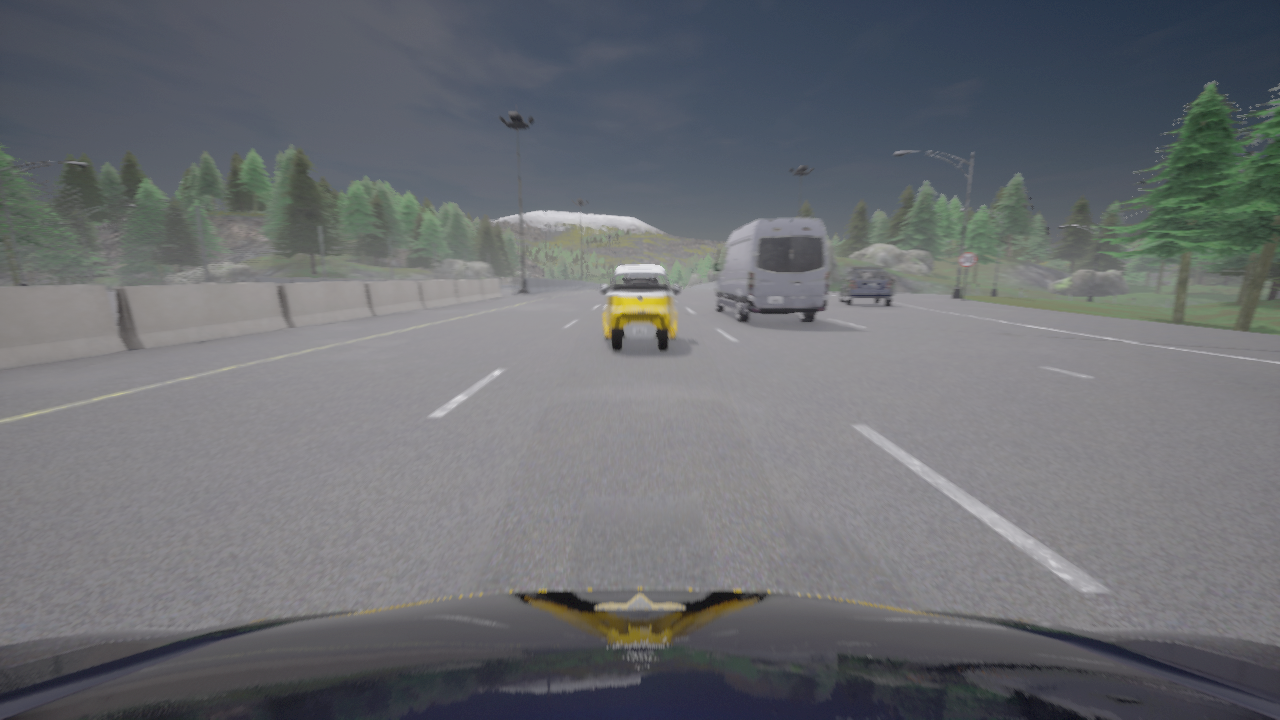cyclist: (0, 588, 1279, 719), (713, 218, 828, 322), (600, 265, 680, 350), (839, 267, 893, 306), (892, 280, 895, 285)
